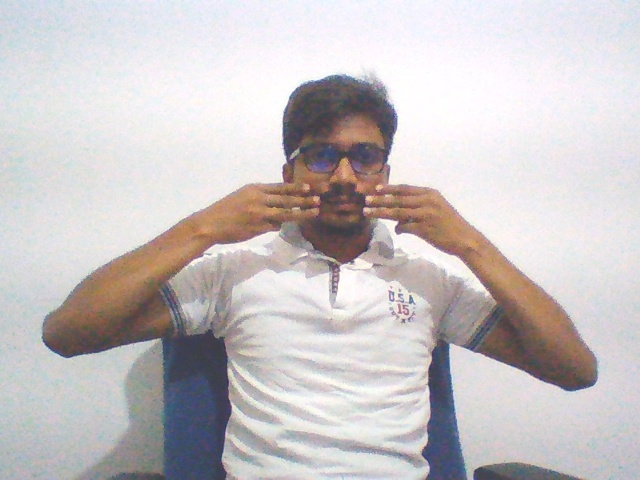cat: (182, 178, 488, 263)
